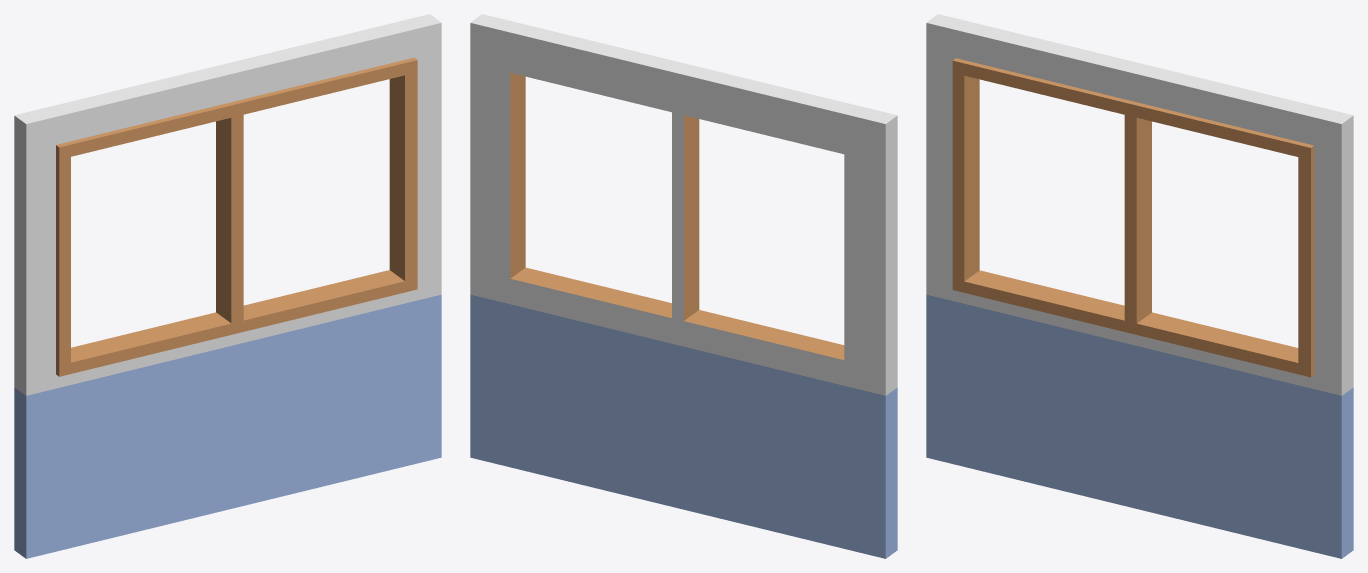
The model's file is Wall_WithWindow.fbx.
The picture shows the model from 3 angles, left to right: view 1: azimuth 30°, elevation 25°; view 2: azimuth 150°, elevation 25°; view 3: azimuth 330°, elevation 25°; orthographic projection.
Parts seen in each view (by area): view 1: Wall_WithWindow; view 2: Wall_WithWindow; view 3: Wall_WithWindow.
Part boxes in pixels (x1=…): Wall_WithWindow: x1=14, y1=14, x2=441, y2=558; Wall_WithWindow: x1=470, y1=14, x2=897, y2=558; Wall_WithWindow: x1=926, y1=14, x2=1353, y2=558.
Size of the model in its own units: 400 by 400 by 25.61.
